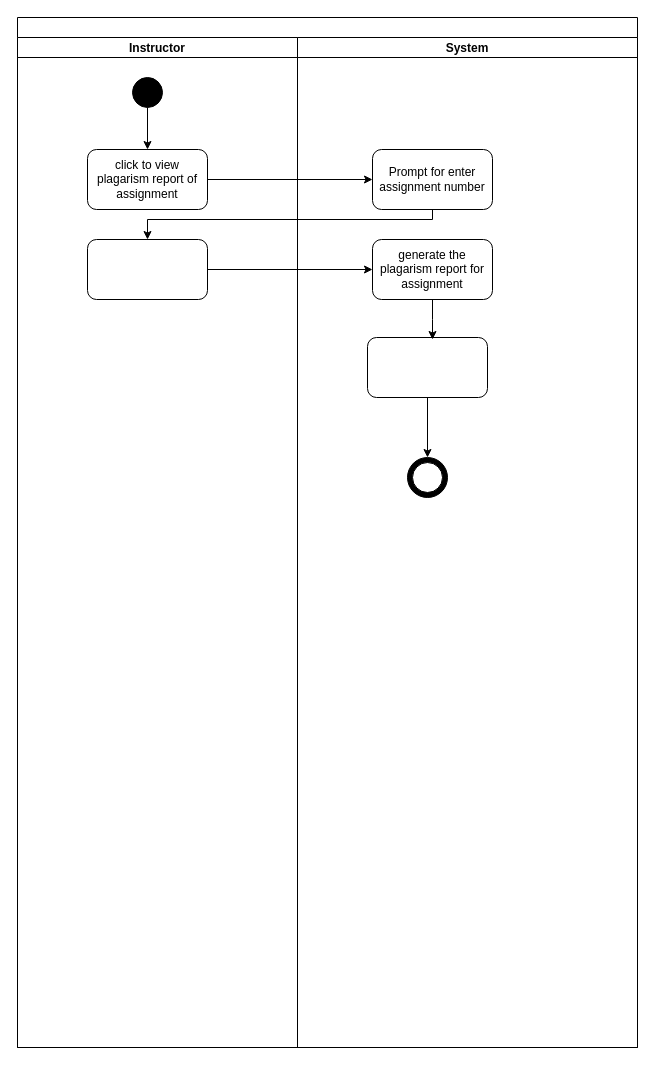
This 655x1065 diagram has some shape labels left out. Each missing label, with the centre of its shape:
display plagarism report: point (427, 367)
Enter assignment number: point (147, 269)
